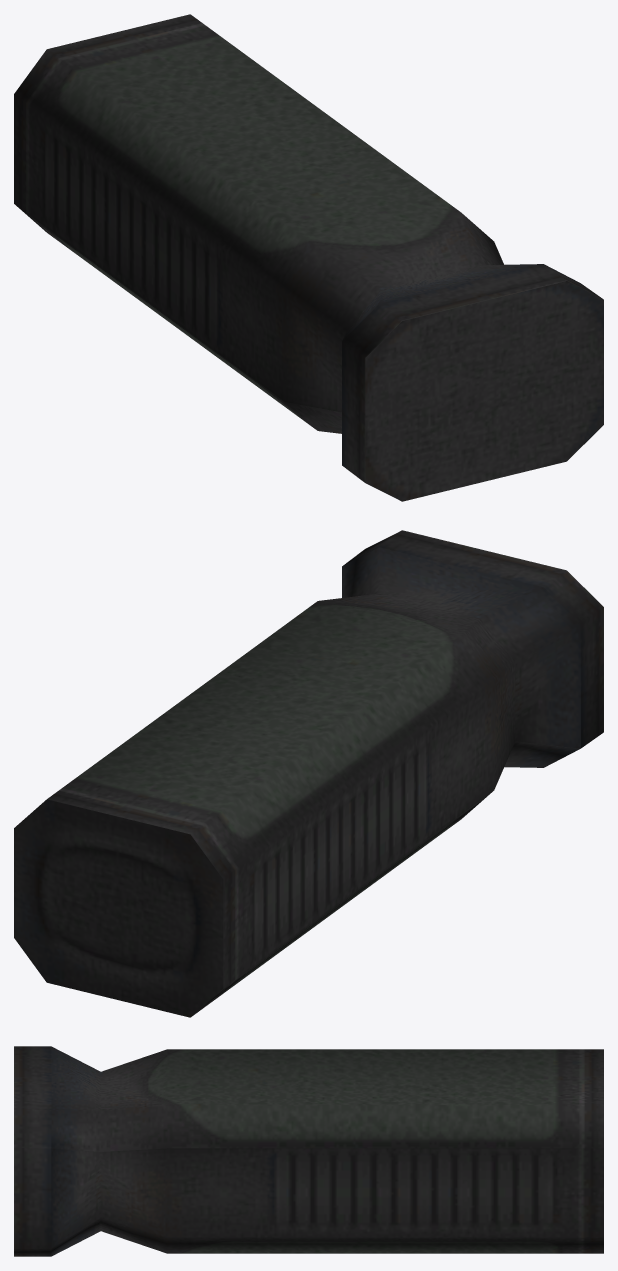
The model's file is t6_attach_grip_world_LOD1.obj.
3 renders of one model, top to bottom at view 1: azimuth 30°, elevation 25°; view 2: azimuth 150°, elevation 25°; view 3: azimuth 270°, elevation 25°, orthographic. The views are drawn at different scales.
Visible parts, largest first — view 1: mtl_t6_attach_grip; view 2: mtl_t6_attach_grip; view 3: mtl_t6_attach_grip.
Boxes of the visible parts, bbox=[...] form: mtl_t6_attach_grip: bbox=[14, 14, 603, 501]; mtl_t6_attach_grip: bbox=[14, 530, 603, 1017]; mtl_t6_attach_grip: bbox=[14, 1046, 603, 1256].
Bounding box in the file's own units: 3.88 × 2.85 × 10.3.
